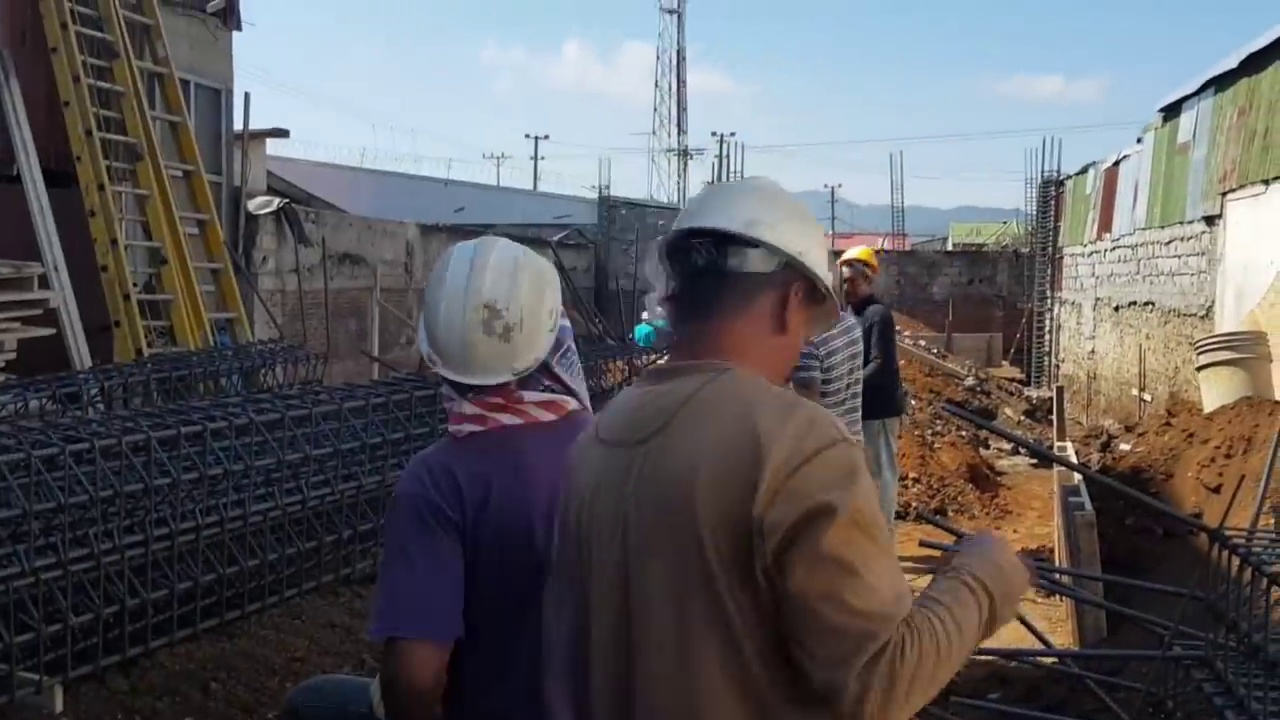helmet: (417, 241, 573, 384), (664, 182, 837, 301), (838, 245, 879, 276), (640, 311, 650, 321)
helmet-on: (666, 179, 837, 399), (411, 236, 597, 436), (839, 246, 879, 304), (640, 311, 650, 325)
person: (553, 179, 1031, 717), (366, 239, 617, 720), (836, 246, 909, 507), (632, 311, 657, 348)
